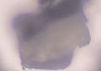microplastic: (13, 1, 91, 69)
